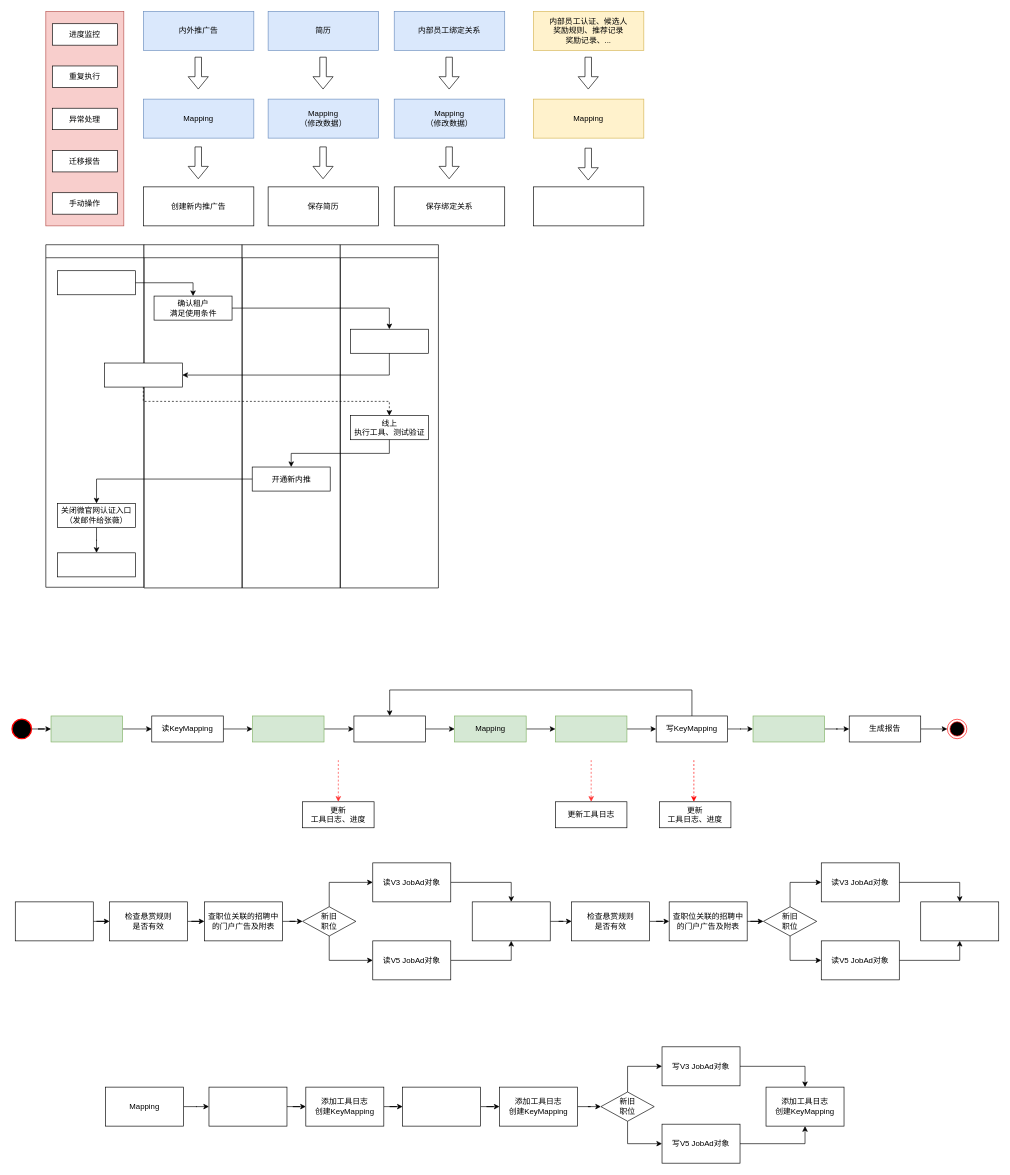
Image size: 1010x1175. Some labels were removed from this diagram. The box of each missing label's shape, as (x1, y1, x2, y2) in pixels:
CSM: (45, 244, 144, 587)
Labs环境同步数据 迁移预演、测试验证: (350, 329, 428, 353)
产品: (143, 244, 242, 588)
保存数据: (555, 715, 627, 742)
写入JobAd_External: (402, 1086, 481, 1126)
写入JobAd表: (208, 1086, 287, 1126)
创建新内推设置: (533, 186, 644, 226)
合并数据: (920, 901, 999, 941)
告知客户开通完成: (57, 552, 136, 577)
告知客户开通时间 期间不要使用系统: (104, 362, 182, 387)
开发/测试/运维: (340, 244, 438, 588)
开通组: (241, 244, 340, 588)
提出新内推开通申请: (57, 270, 136, 295)
数据检查: (752, 715, 825, 742)
查询广告 【门户、招聘中 允许微官网推荐】: (472, 901, 550, 941)
查询本租户所有迁移的原数据: (50, 715, 123, 742)
查询职位 【允许微官网推荐】: (15, 901, 93, 941)
跳过已经迁移的和用户指定跳过的数据: (252, 715, 324, 742)
遍历待迁移的数据: (353, 715, 425, 742)
